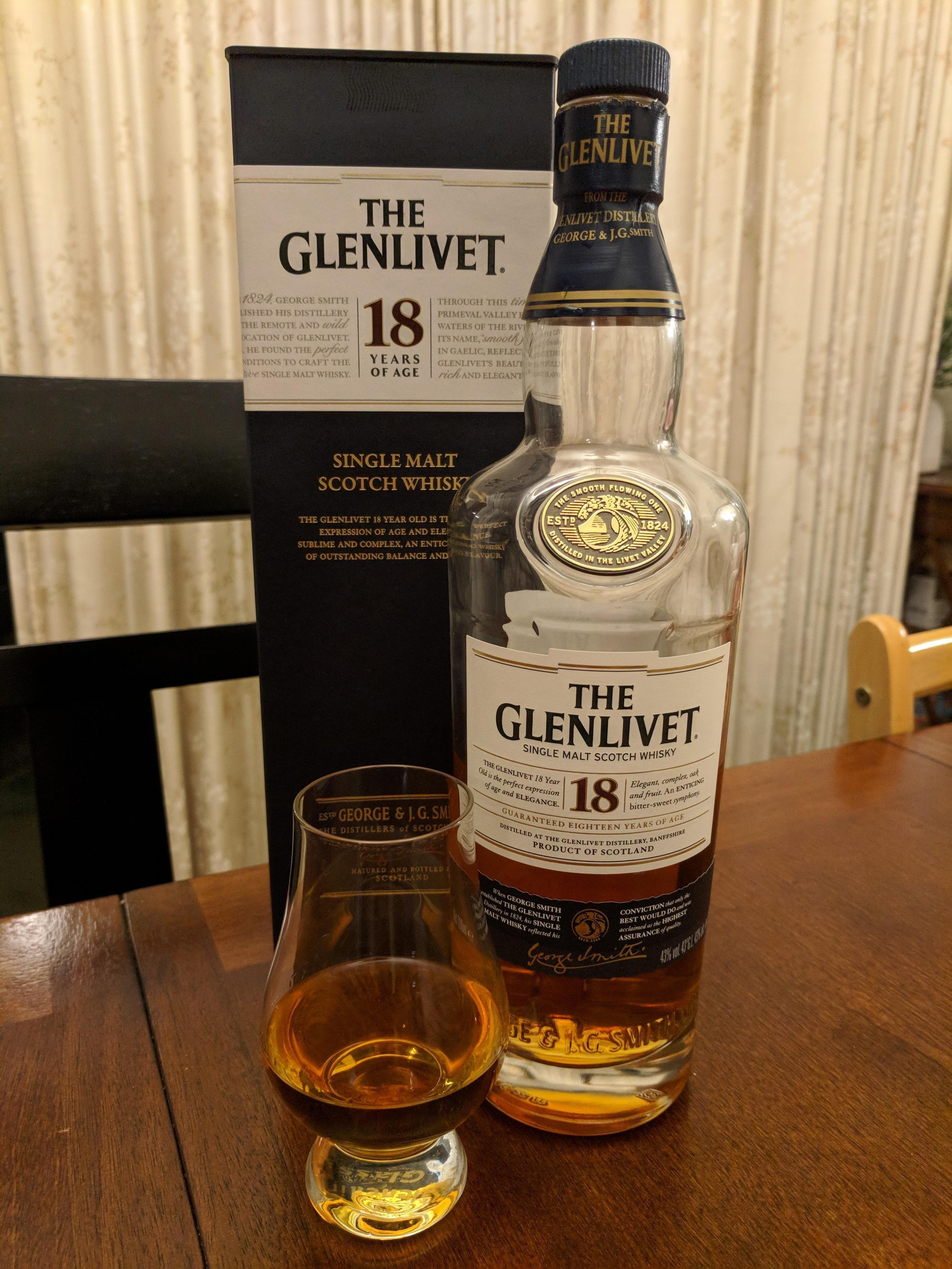bottle-glass: (437, 27, 768, 1157)
glass-wine: (268, 754, 517, 1256)
